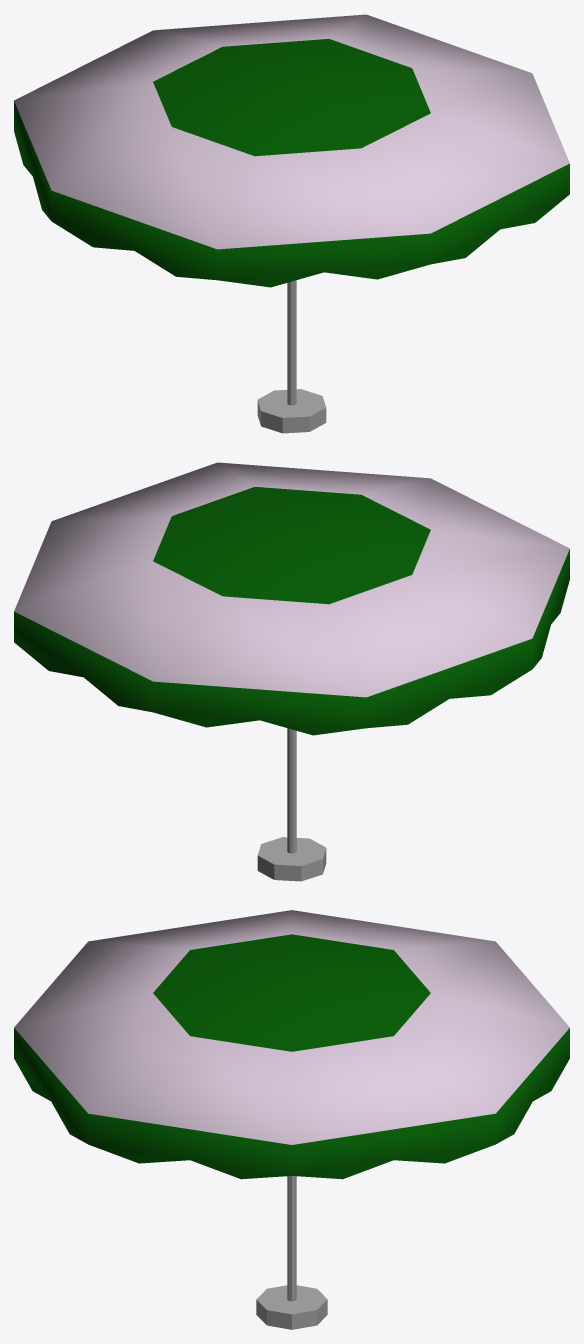
The model's file is Umbrella.gltf.
The picture shows the model from 3 angles, top to bottom: view 1: azimuth 30°, elevation 25°; view 2: azimuth 150°, elevation 25°; view 3: azimuth 270°, elevation 25°; orthographic projection.
Parts seen in each view (by area): view 1: Plane.001, Cylinder.002; view 2: Plane.001, Cylinder.002; view 3: Plane.001, Cylinder.002.
Boxes of the visible parts, <box> form: Plane.001: <box>14,14,569,287</box>; Cylinder.002: <box>257,280,326,433</box>; Plane.001: <box>14,462,569,735</box>; Cylinder.002: <box>257,728,326,881</box>; Plane.001: <box>14,910,569,1179</box>; Cylinder.002: <box>256,1176,327,1329</box>.
Bounding box in the file's own units: 8.51 × 5.73 × 8.51.
